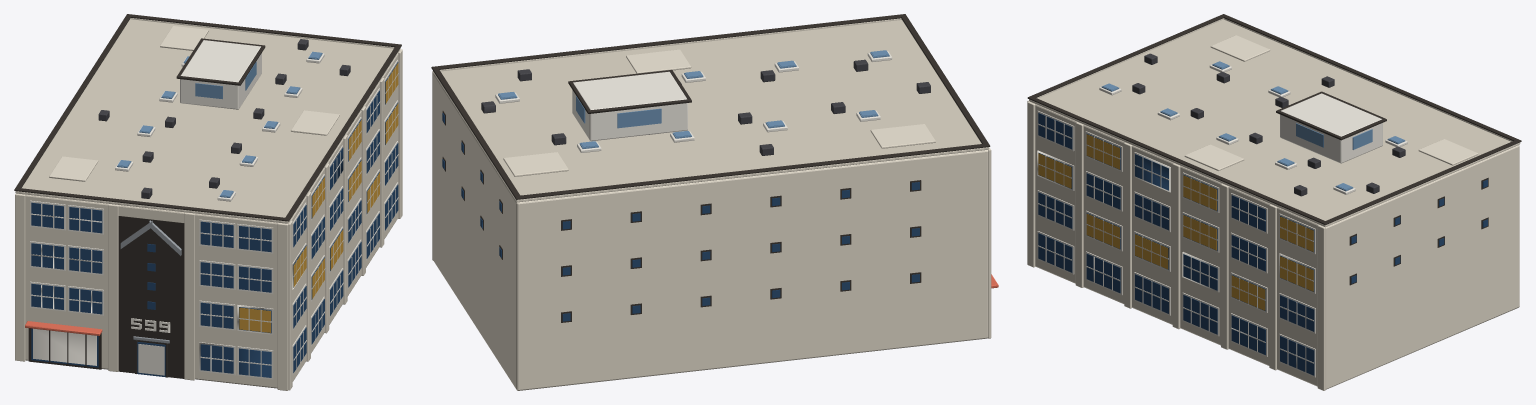
Rendered from 599-third.optimized.glb.
3 views of the same model, side by side, from view 1: azimuth 30°, elevation 25°; view 2: azimuth 150°, elevation 25°; view 3: azimuth 270°, elevation 25° (orthographic). The views are drawn at different scales.
Parts seen in each view (by area): view 1: roof_field, grp_Toy_sand, grp_Toy_glass, grp_Toy_trim, grp_Toy_ink, grp_Toy_mustard_Glow, grp_Toy_trim_Glow, grp_Toy_roofd, grp_Toy_glassl, grp_Toy_steel, cafe_awning, grp_Toy_glassl_Glow; view 2: grp_Toy_sand, roof_field, grp_Toy_ink, grp_Toy_trim, grp_Toy_glass, grp_Toy_roofd, grp_Toy_glassl, grp_Toy_glassl_Glow; view 3: grp_Toy_sand, roof_field, grp_Toy_trim, grp_Toy_glass, grp_Toy_mustard_Glow, grp_Toy_ink, grp_Toy_roofd, grp_Toy_glassl, grp_Toy_glassl_Glow.
Part boxes in pixels (x1,y1,x2,y2): roof_field: (22, 19, 393, 217); grp_Toy_sand: (15, 18, 402, 390); grp_Toy_glass: (31, 62, 398, 377); grp_Toy_trim: (30, 40, 398, 379); grp_Toy_ink: (14, 14, 401, 378); grp_Toy_mustard_Glow: (239, 63, 398, 332); grp_Toy_trim_Glow: (33, 328, 164, 375); grp_Toy_roofd: (98, 39, 350, 198); grp_Toy_glassl: (117, 52, 322, 197); grp_Toy_steel: (120, 220, 181, 343); cafe_awning: (25, 321, 102, 335); grp_Toy_glassl_Glow: (118, 51, 321, 196); grp_Toy_sand: (432, 18, 991, 390); roof_field: (440, 20, 981, 195); grp_Toy_ink: (431, 14, 990, 322); grp_Toy_trim: (495, 51, 892, 152); grp_Toy_glass: (442, 113, 919, 321); grp_Toy_roofd: (481, 59, 930, 155); grp_Toy_glassl: (498, 50, 889, 148); grp_Toy_glassl_Glow: (499, 50, 888, 147); grp_Toy_sand: (1027, 18, 1520, 390); roof_field: (1038, 19, 1510, 220); grp_Toy_trim: (1037, 64, 1407, 377); grp_Toy_glass: (1038, 113, 1487, 375); grp_Toy_mustard_Glow: (1038, 134, 1313, 310); grp_Toy_ink: (1027, 14, 1521, 285); grp_Toy_roofd: (1132, 53, 1405, 196); grp_Toy_glassl: (1101, 64, 1405, 191); grp_Toy_glassl_Glow: (1102, 61, 1403, 189).
Size of the model in its own units: 43.15 by 18.3 by 42.85.
